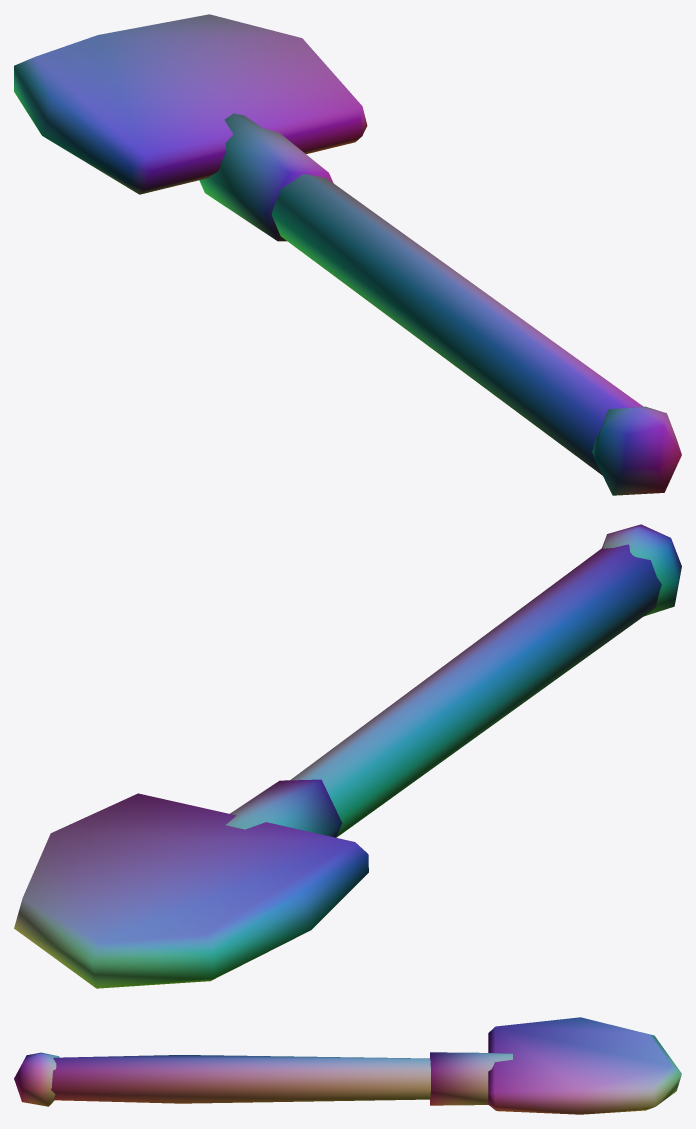
File: SM_MonWeapon_Shovel_LOD1.fbx
3 views of the same model, one above another, from view 1: azimuth 30°, elevation 25°; view 2: azimuth 150°, elevation 25°; view 3: azimuth 270°, elevation 25° (orthographic). The views are drawn at different scales.
Parts seen in each view (by area): view 1: SM_MonWeapon_Shovel_LOD1; view 2: SM_MonWeapon_Shovel_LOD1; view 3: SM_MonWeapon_Shovel_LOD1.
Boxes of the visible parts, x1,y1,x2,y2 form: SM_MonWeapon_Shovel_LOD1: [14, 14, 681, 495]; SM_MonWeapon_Shovel_LOD1: [14, 524, 681, 988]; SM_MonWeapon_Shovel_LOD1: [14, 1017, 681, 1114].
Size of the model in its own units: 0.2439 by 0.0774 by 0.9052.
